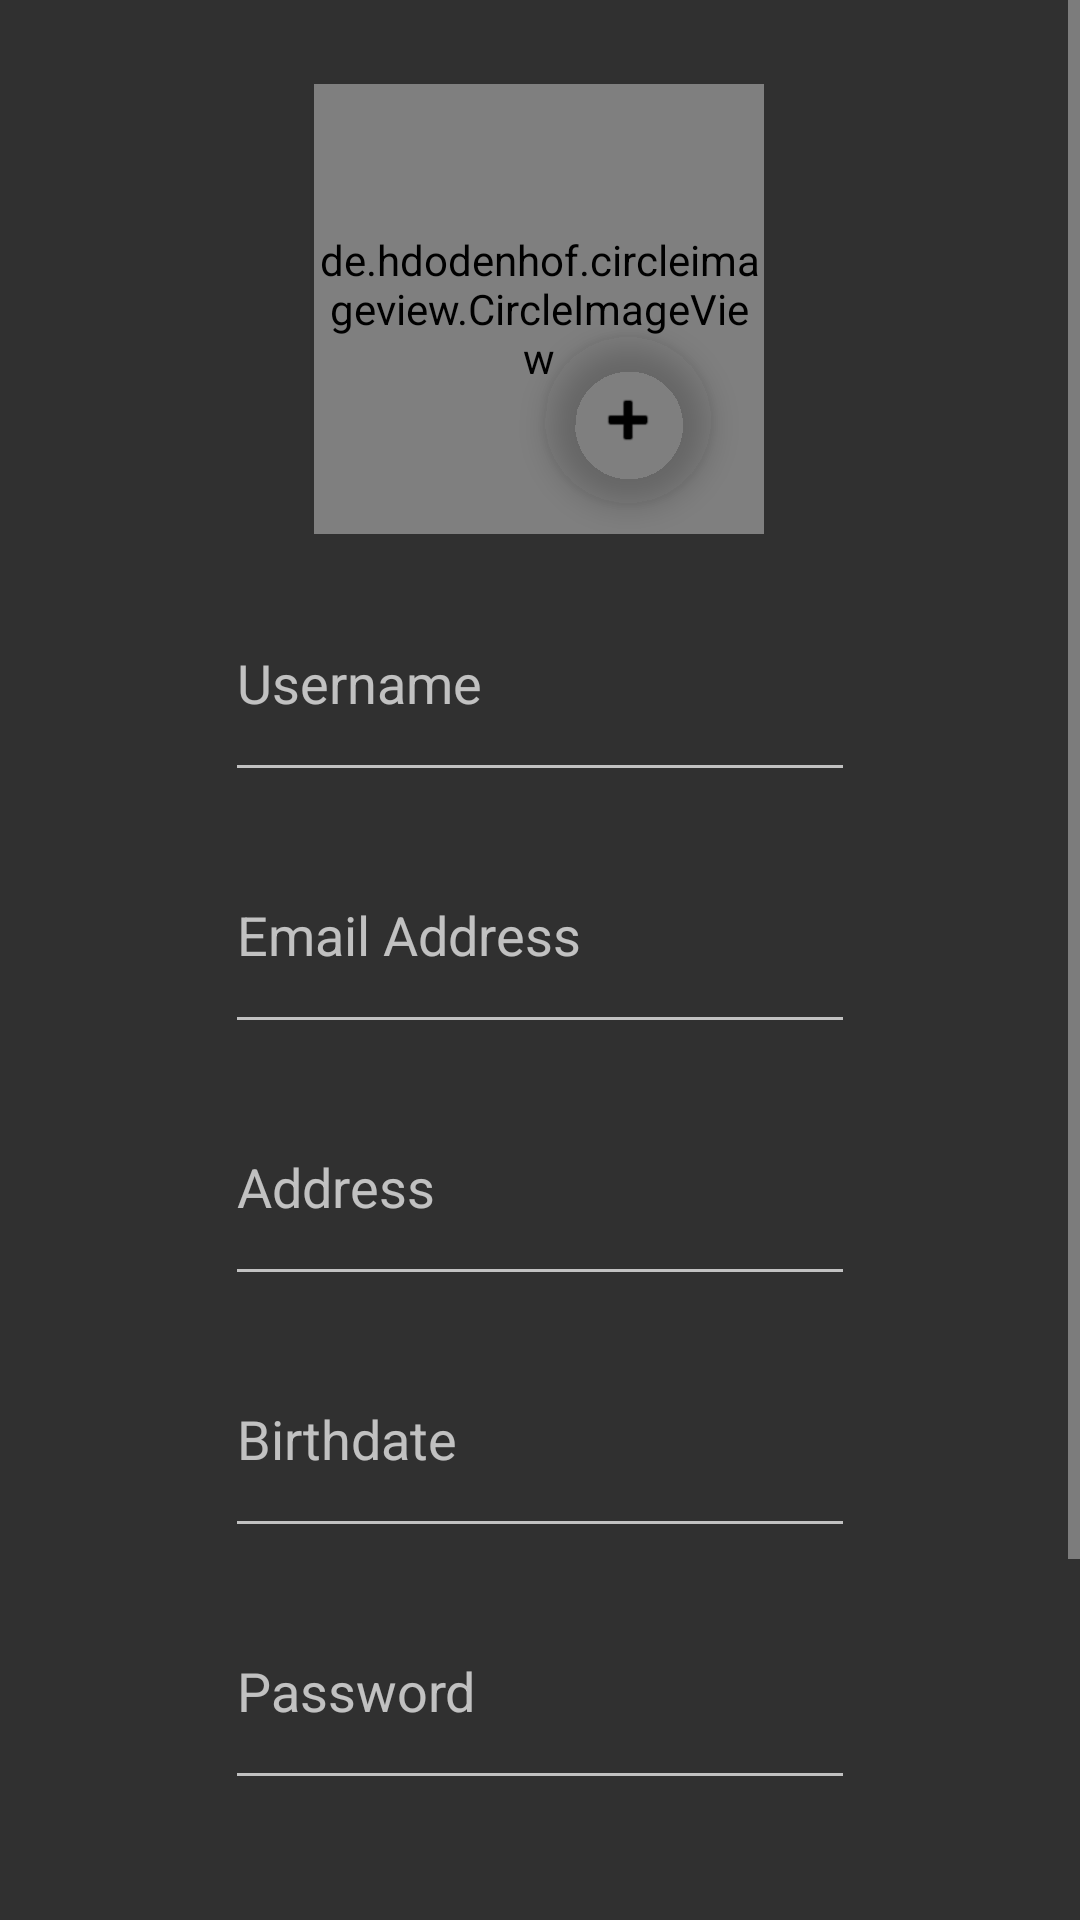

Point at icon controls on the screen. Image size 1080 × 1920, points as (x,y).
add: (628,420)
